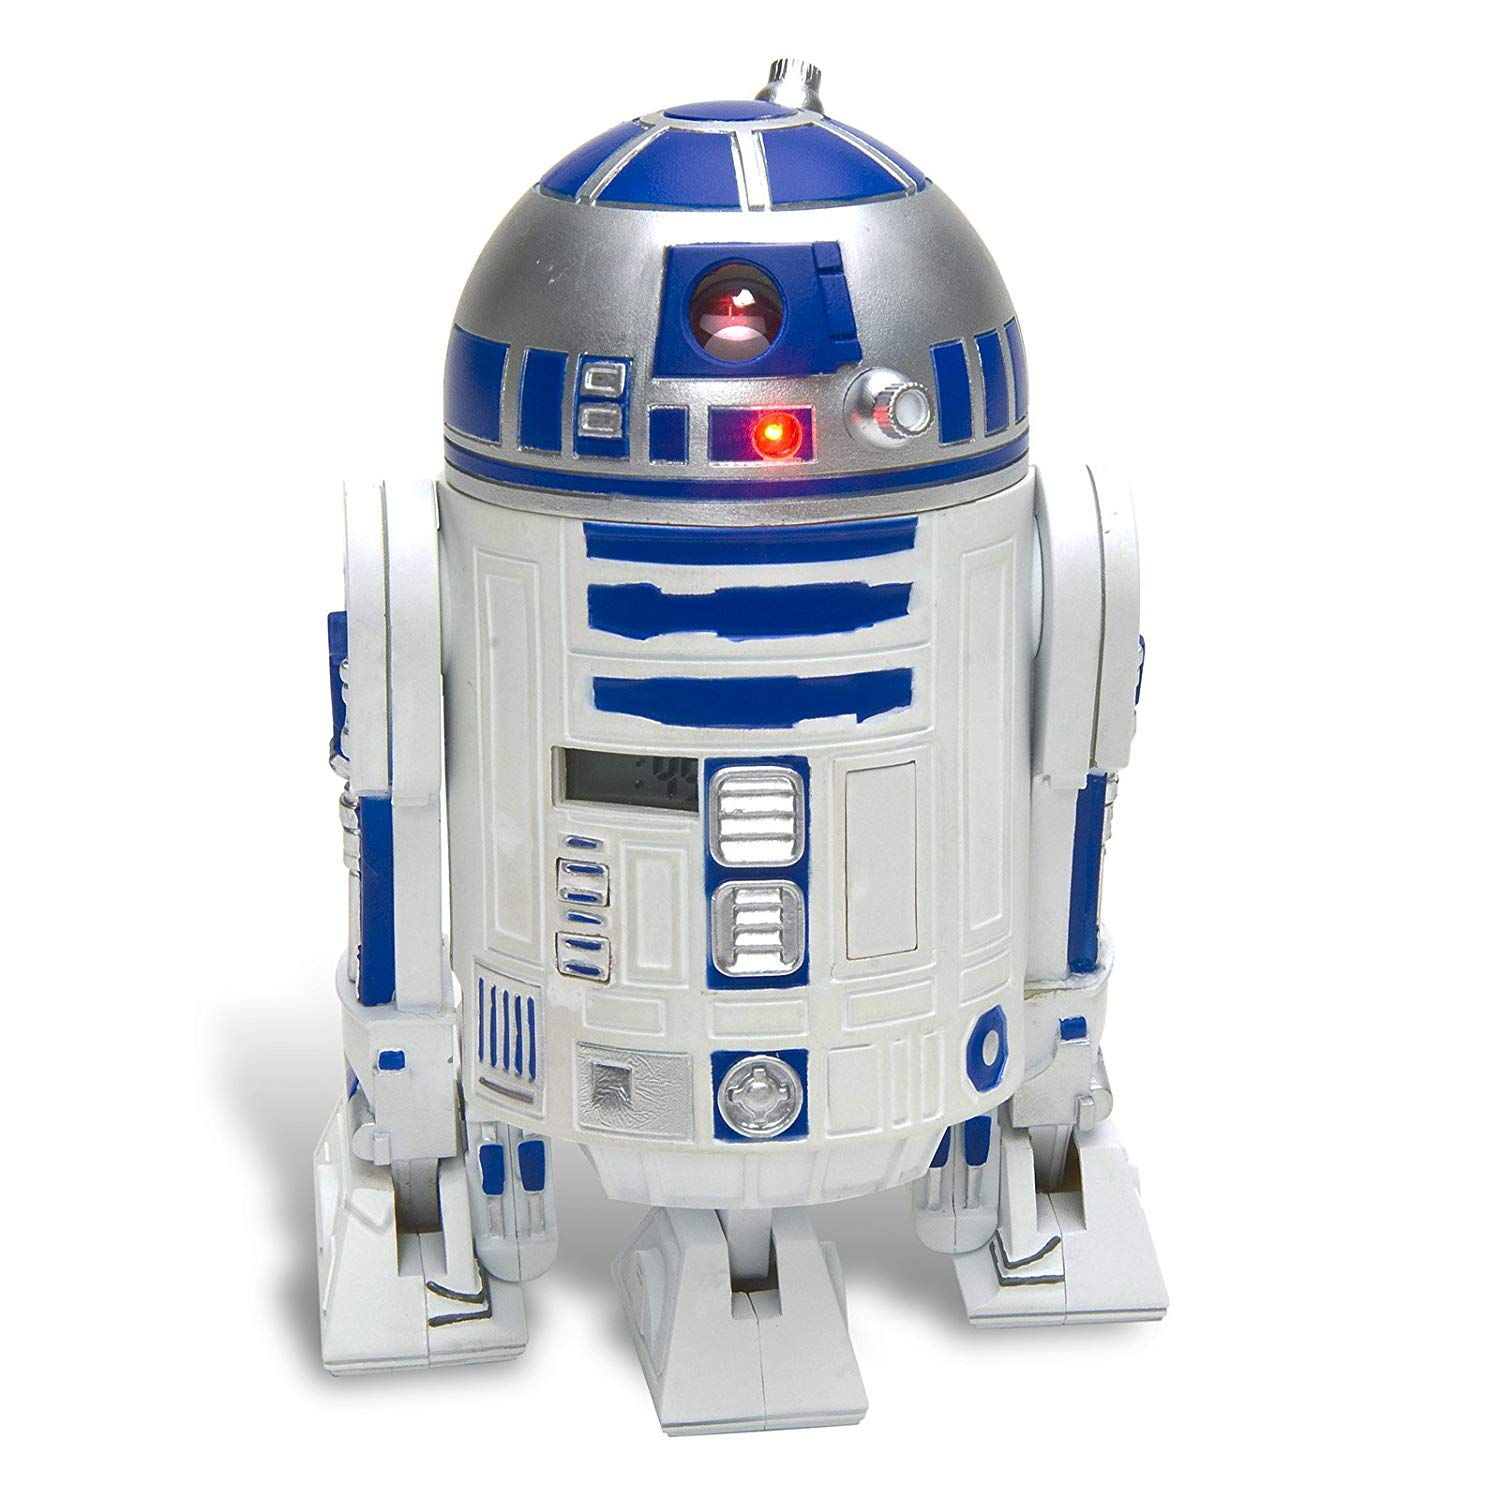r2d2: (312, 56, 1170, 1440)
